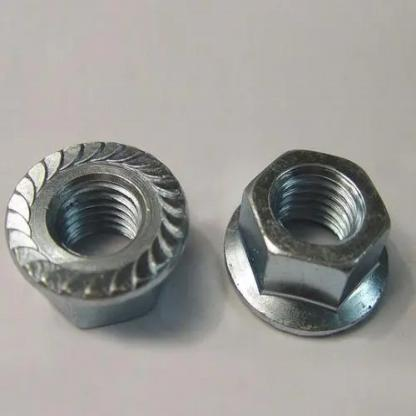FOD: (1, 125, 197, 337), (212, 130, 404, 340)
